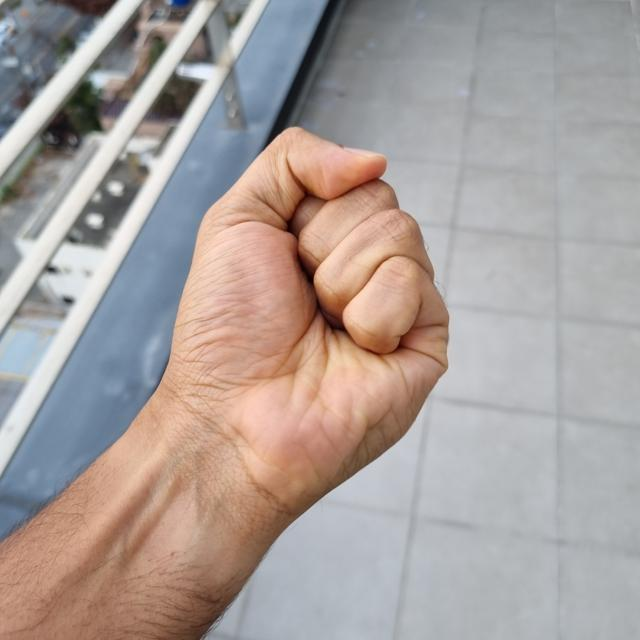Rock: (138, 132, 450, 527)
